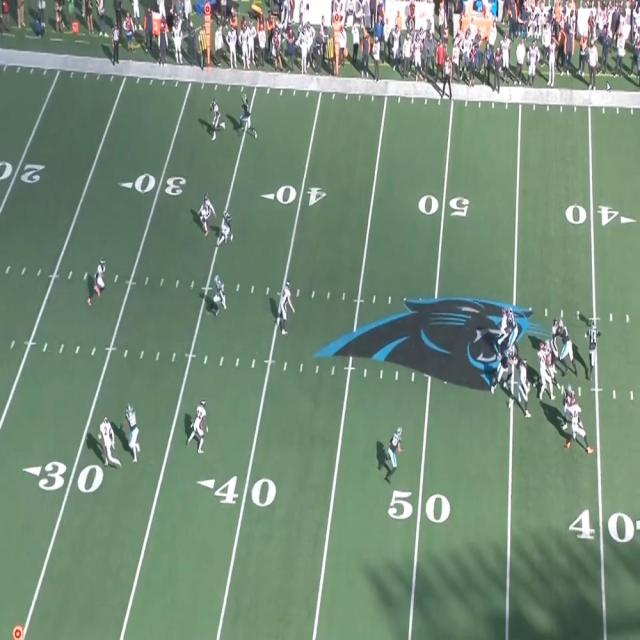db: (194, 400, 208, 452), (104, 415, 118, 463), (279, 284, 291, 332), (92, 261, 106, 302), (200, 194, 213, 236), (211, 99, 221, 136)
qb: (590, 324, 600, 383)
skill: (127, 405, 141, 461), (390, 428, 404, 476), (220, 208, 234, 245), (242, 98, 255, 137), (213, 274, 224, 311)
